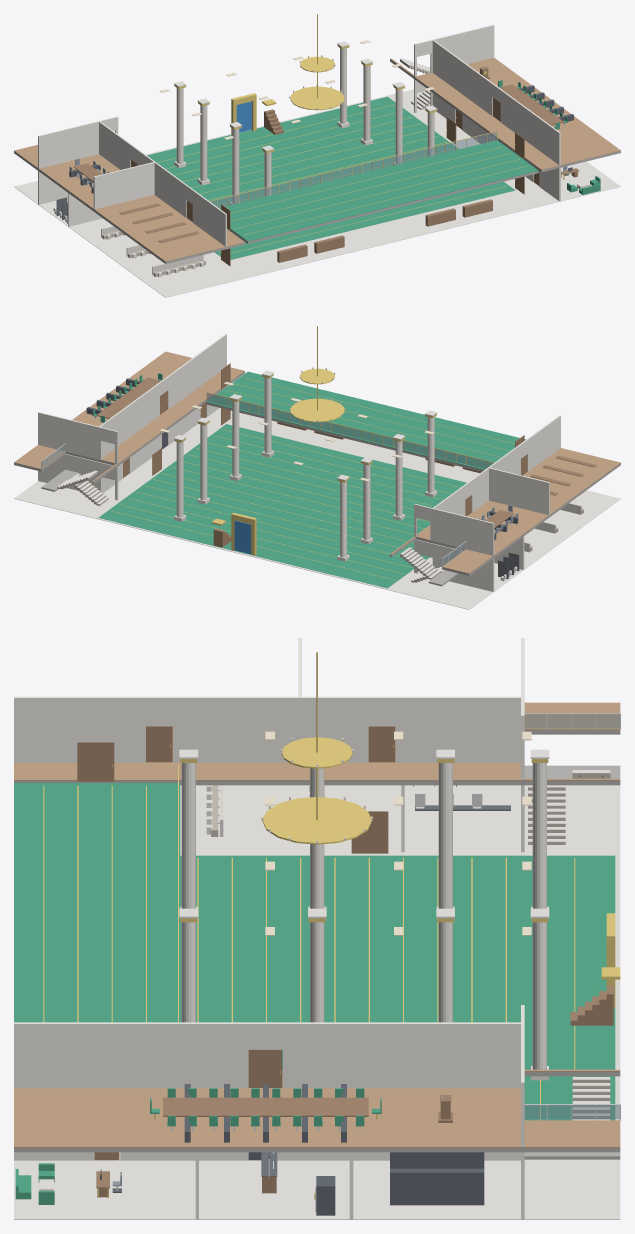
Rendered from SM_Grande_Mosquee_Interieur.fbx.
The picture shows the model from 3 angles, top to bottom: view 1: azimuth 30°, elevation 25°; view 2: azimuth 150°, elevation 25°; view 3: azimuth 270°, elevation 25°; orthographic projection. The views are drawn at different scales.
Visible parts, largest first — view 1: Mosq_Int_R1_Structure, Mosq_Int_RDC_Structure, Mosq_Int_RDC_Mobilier, Mosq_Int_R1_Mobilier; view 2: Mosq_Int_RDC_Structure, Mosq_Int_R1_Structure, Mosq_Int_RDC_Mobilier, Mosq_Int_R1_Mobilier; view 3: Mosq_Int_R1_Structure, Mosq_Int_RDC_Structure, Mosq_Int_RDC_Mobilier, Mosq_Int_R1_Mobilier, Door_Galerie_Femmes_O, Door_Conseil_Islam_R1, Door_Salle_Priere_W2, Door_Reunion_Mosquee_R1, Door_Ecole_Coranique_R1.
Boxes of the visible parts, left/top/right/bottom form: Mosq_Int_R1_Structure: left=14, top=24, right=620, bottom=263; Mosq_Int_RDC_Structure: left=14, top=40, right=620, bottom=297; Mosq_Int_RDC_Mobilier: left=53, top=14, right=600, bottom=277; Mosq_Int_R1_Mobilier: left=69, top=66, right=573, bottom=242; Mosq_Int_RDC_Structure: left=14, top=370, right=620, bottom=609; Mosq_Int_R1_Structure: left=14, top=334, right=620, bottom=575; Mosq_Int_RDC_Mobilier: left=211, top=326, right=583, bottom=581; Mosq_Int_R1_Mobilier: left=86, top=373, right=596, bottom=540; Mosq_Int_R1_Structure: left=14, top=638, right=620, bottom=1152; Mosq_Int_RDC_Structure: left=14, top=731, right=620, bottom=1219; Mosq_Int_RDC_Mobilier: left=15, top=652, right=620, bottom=1215; Mosq_Int_R1_Mobilier: left=150, top=726, right=452, bottom=1142; Door_Galerie_Femmes_O: left=77, top=742, right=114, bottom=781; Door_Conseil_Islam_R1: left=248, top=1049, right=282, bottom=1087; Door_Salle_Priere_W2: left=351, top=811, right=388, bottom=853; Door_Reunion_Mosquee_R1: left=368, top=726, right=395, bottom=762; Door_Ecole_Coranique_R1: left=146, top=726, right=172, bottom=762.
Size of the model in its own units: 6140 by 2239 by 3543.
